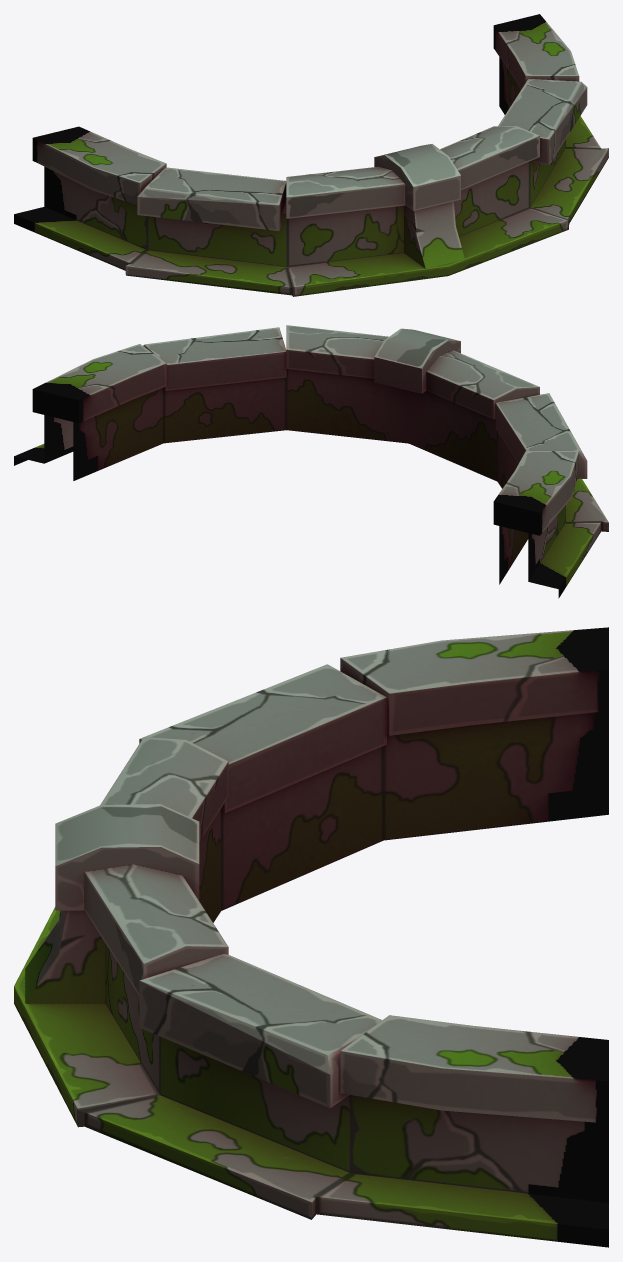
The model's file is 雕像围.FBX.
3 renders of one model, top to bottom at view 1: azimuth 30°, elevation 25°; view 2: azimuth 150°, elevation 25°; view 3: azimuth 270°, elevation 25°, orthographic. The views are drawn at different scales.
Visible parts, largest first — view 1: Cylinder004; view 2: Cylinder004; view 3: Cylinder004.
Part boxes in pixels (x1,y1,x2,y2): Cylinder004: (14, 14, 608, 296); Cylinder004: (14, 325, 608, 598); Cylinder004: (14, 627, 608, 1247).
Bounding box in the file's own units: 761 × 131 × 392.
